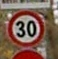limite 30: (5, 8, 45, 47)
